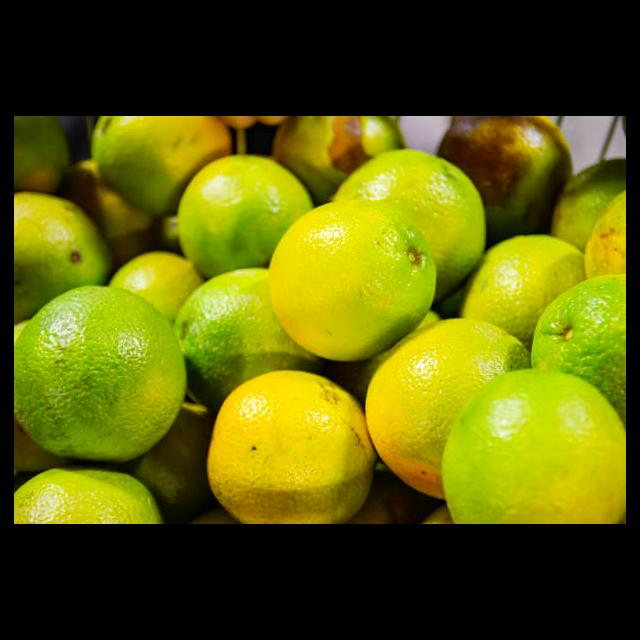lime: (14, 285, 188, 471), (268, 198, 438, 362), (176, 154, 317, 281)
